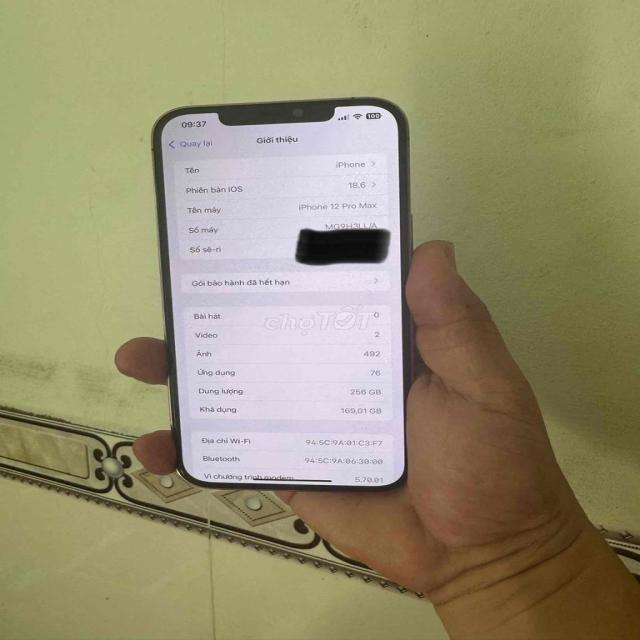gen_12_13: (152, 91, 437, 512)
screen_defect: (281, 207, 408, 283)
